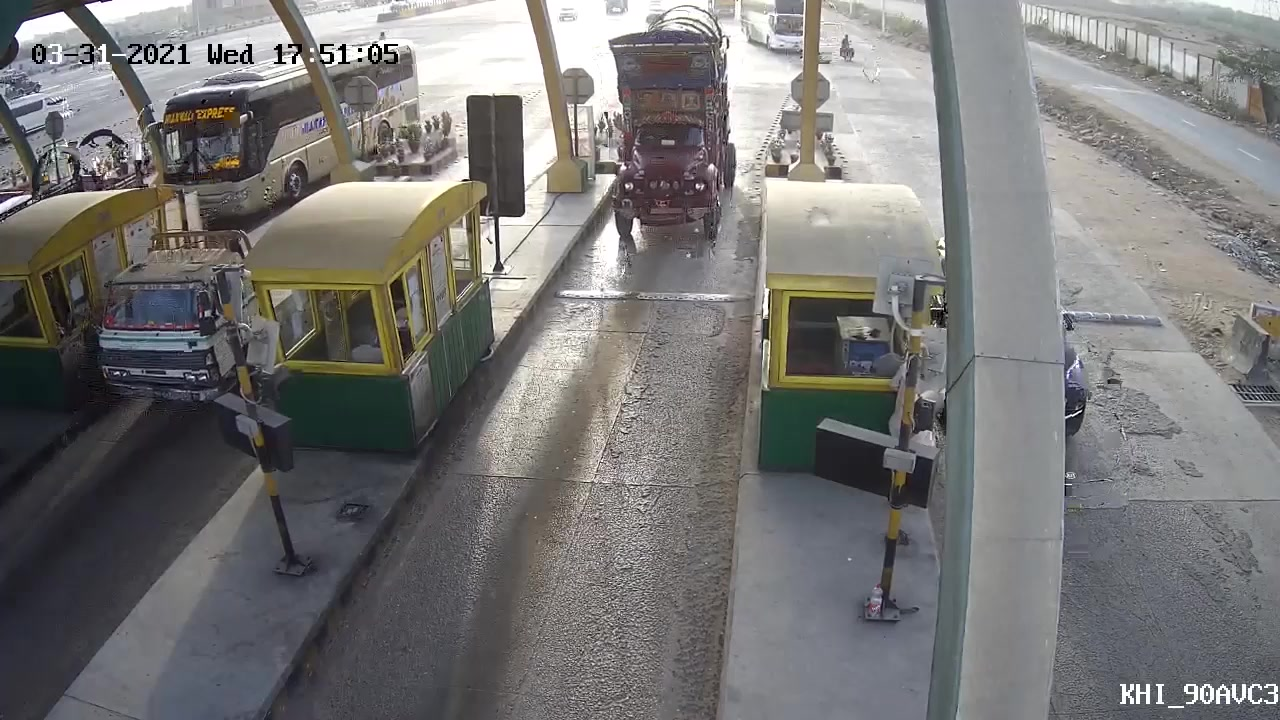F5: (594, 1, 751, 261)
